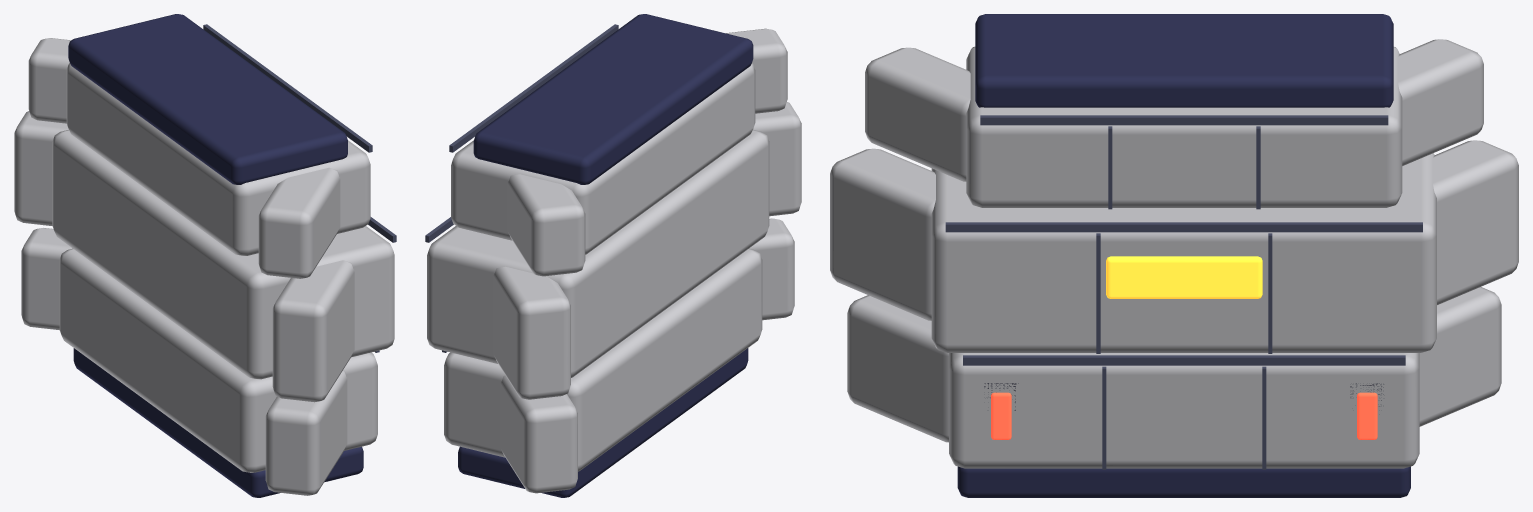
Rendered from BOW_nose_cap.glb.
3 renders of one model, left to right at view 1: azimuth 30°, elevation 25°; view 2: azimuth 150°, elevation 25°; view 3: azimuth 270°, elevation 25°, orthographic. The views are drawn at different scales.
Visible parts, largest first — view 1: BOW_nose_cap.001; view 2: BOW_nose_cap.001; view 3: BOW_nose_cap.001.
Part boxes in pixels (left/top/right/bottom): BOW_nose_cap.001: left=14, top=14, right=396, bottom=497; BOW_nose_cap.001: left=425, top=14, right=801, bottom=497; BOW_nose_cap.001: left=830, top=14, right=1518, bottom=497.
Size of the model in its own units: 1.36 by 2.64 by 3.95.
